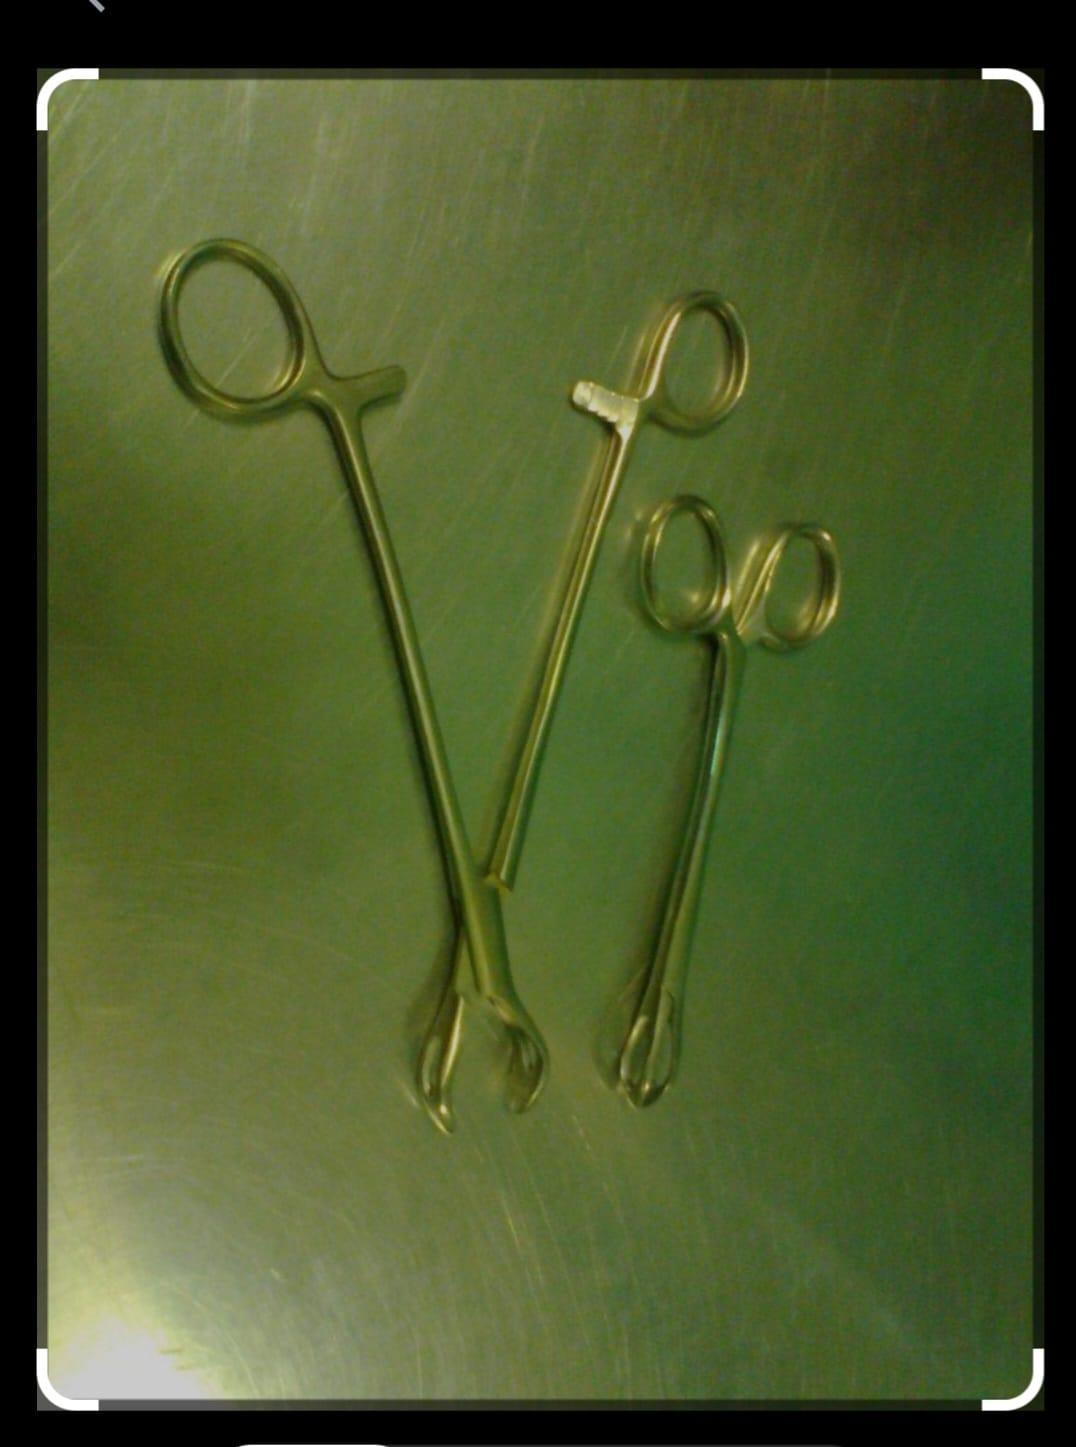Lane Tissue Forceps: (132, 222, 764, 1134), (600, 502, 878, 1118)
